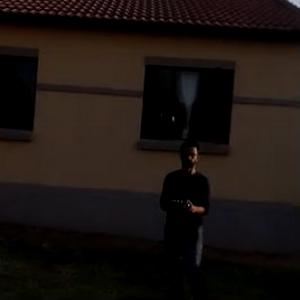follow: (156, 131, 216, 299)
